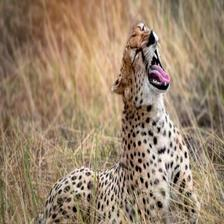Cheetah: (32, 21, 202, 224)
